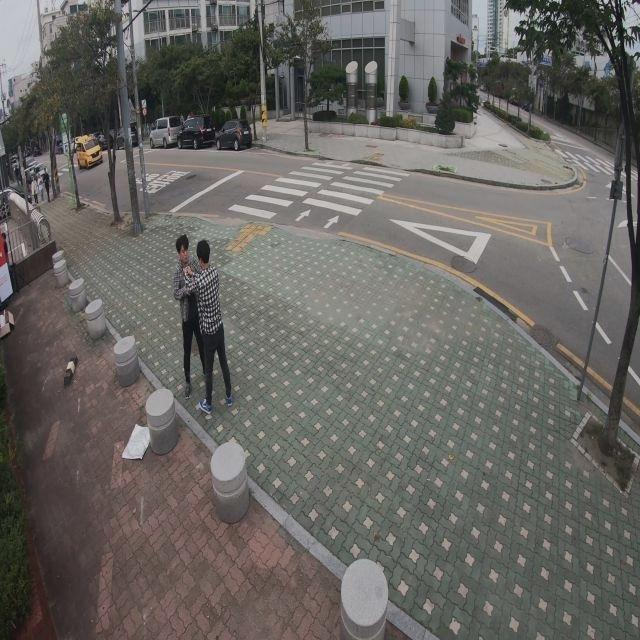fight: (174, 239, 234, 415)
